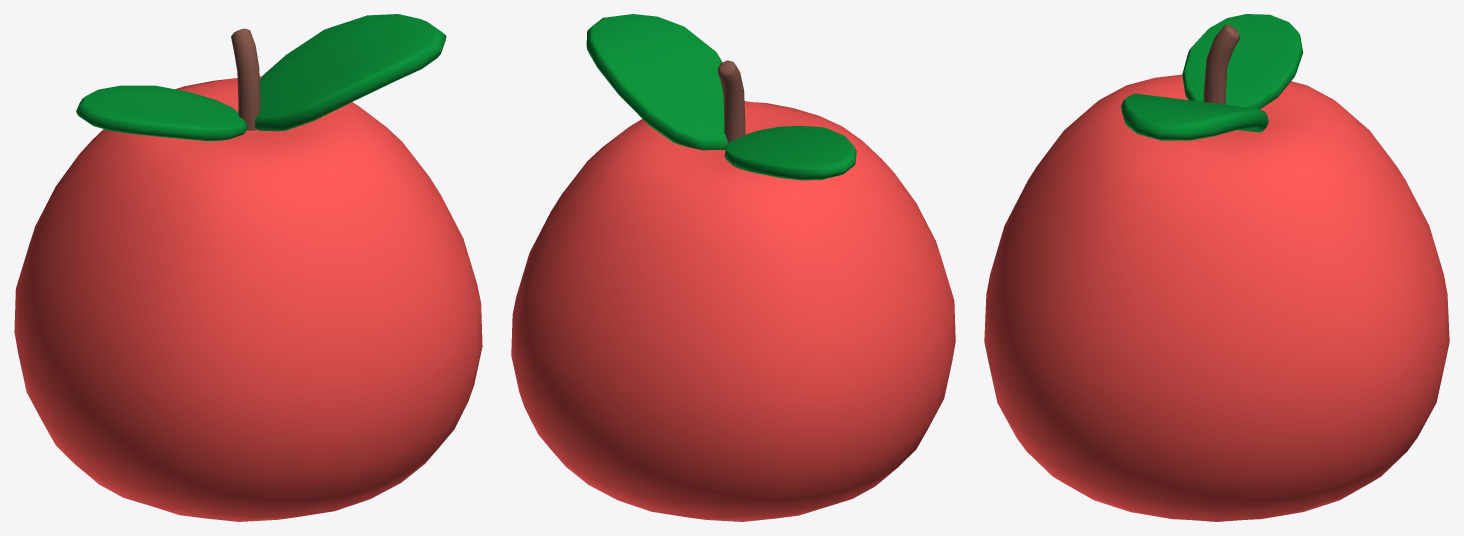
The model's file is Store_10_Apple_Sigh_1.glb.
3 views of the same model, side by side, from view 1: azimuth 30°, elevation 25°; view 2: azimuth 150°, elevation 25°; view 3: azimuth 270°, elevation 25° (orthographic). The views are drawn at different scales.
Visible parts, largest first — view 1: Store_10_Apple_Sigh_1; view 2: Store_10_Apple_Sigh_1; view 3: Store_10_Apple_Sigh_1.
Boxes of the visible parts, box(x1,y1,x2,y2) form: Store_10_Apple_Sigh_1: box(14, 14, 482, 521); Store_10_Apple_Sigh_1: box(511, 14, 955, 521); Store_10_Apple_Sigh_1: box(984, 14, 1449, 521).
Size of the model in its own units: 4.3 by 4.53 by 4.3.
Materials: 1 (1 with a texture image).
